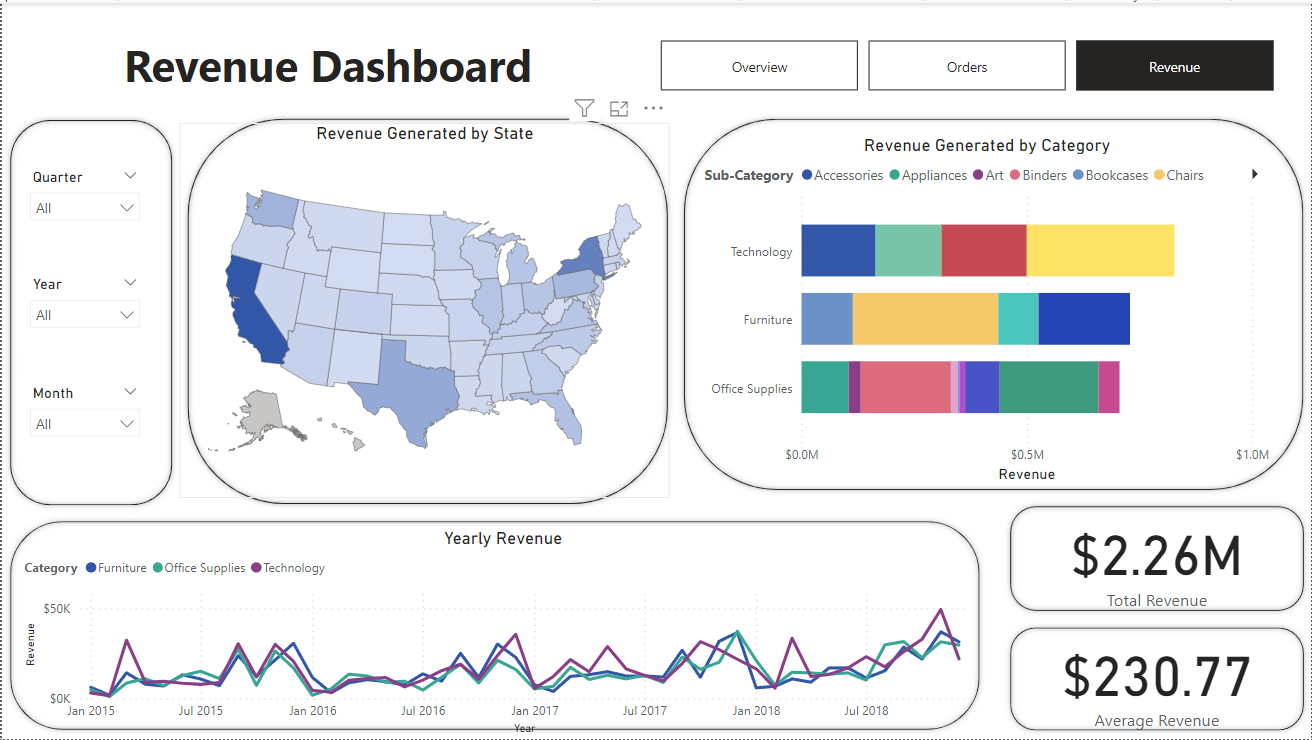

This screenshot's page, from the dashboard's own definition file:
{"tool":"powerbi","page":{"name":"Revenue","canvas":[1280,720],"ordinal":2},"visuals":[{"type":"shape","box":[977.4,483.9,303.1,118.3],"z":0},{"type":"shape","box":[0,498.9,963.8,220.2],"z":1000},{"type":"shape","box":[173.5,104.9,485.3,392.9],"z":2000},{"type":"shape","box":[977.4,602.2,303.1,116.9],"z":6000},{"type":"card","fields":{"Values":["Sum(train.Sales)"]},"box":[977.4,485.3,303.1,118.3],"z":7000},{"type":"card","fields":{"Values":["train.AVG Revenu"]},"box":[977.4,603.6,303.1,116.9],"z":10000},{"type":"shape","box":[659.3,104.7,621.2,379.3],"z":11000},{"type":"barChart","title":"Revenue Generated by Category","fields":{"Category":["train.Category"],"Y":["Sum(train.Sales)"],"Series":["train.Sub-Category"]},"box":[682.4,127.8,562.8,345.3],"z":12000},{"type":"shape","box":[0,106,174,392.9],"z":13000},{"type":"slicer","fields":{"Values":["train.Order Date.Variation.Date Hierarchy.Year"]},"box":[17.5,261.9,127.5,76.8],"z":14000},{"type":"slicer","fields":{"Values":["train.Order Date.Variation.Date Hierarchy.Month"]},"box":[17.5,367.9,127.5,76.8],"z":15000},{"type":"slicer","fields":{"Values":["train.Order Date.Variation.Date Hierarchy.Quarter"]},"box":[17.5,156,127.5,76.8],"z":16000},{"type":"textbox","box":[0,26,637.5,71.3],"z":17000},{"type":"pageNavigator","box":[644.4,37,600.5,49.4],"z":18000},{"type":"lineChart","title":"Yearly Revenue","fields":{"Y":["Sum(train.Sales)"],"Category":["train.Order Date.Variation.Date Hierarchy.Year","train.Order Date.Variation.Date Hierarchy.Month"],"Series":["train.Category"]},"box":[17.7,513.9,946.1,206.6],"z":18001},{"type":"shapeMap","title":"Revenue Generated by State","fields":{"Category":["train.State"],"Value":["Sum(train.Sales)"]},"box":[173.5,117.2,479.9,367],"z":18002}]}

Visuals, with their boxes in screenshot pixels (x1, y1, x2, y2), scaled from the page's 1280x720 canvas onto the 1312x740 screenshot:
shape: {"x1": 1002, "y1": 497, "x2": 1311, "y2": 619}
shape: {"x1": 0, "y1": 513, "x2": 988, "y2": 739}
shape: {"x1": 178, "y1": 108, "x2": 675, "y2": 512}
shape: {"x1": 1002, "y1": 619, "x2": 1311, "y2": 739}
card - Sum(train.Sales): {"x1": 1002, "y1": 499, "x2": 1311, "y2": 620}
card - train.AVG Revenu: {"x1": 1002, "y1": 620, "x2": 1311, "y2": 739}
shape: {"x1": 676, "y1": 108, "x2": 1311, "y2": 497}
"Revenue Generated by Category" barChart: {"x1": 699, "y1": 131, "x2": 1276, "y2": 486}
shape: {"x1": 0, "y1": 109, "x2": 178, "y2": 513}
slicer - train.Order Date.Variation.Date Hierarchy.Year: {"x1": 18, "y1": 269, "x2": 149, "y2": 348}
slicer - train.Order Date.Variation.Date Hierarchy.Month: {"x1": 18, "y1": 378, "x2": 149, "y2": 457}
slicer - train.Order Date.Variation.Date Hierarchy.Quarter: {"x1": 18, "y1": 160, "x2": 149, "y2": 239}
textbox: {"x1": 0, "y1": 27, "x2": 653, "y2": 100}
pageNavigator: {"x1": 661, "y1": 38, "x2": 1276, "y2": 89}
"Yearly Revenue" lineChart: {"x1": 18, "y1": 528, "x2": 988, "y2": 739}
"Revenue Generated by State" shapeMap: {"x1": 178, "y1": 120, "x2": 670, "y2": 498}
